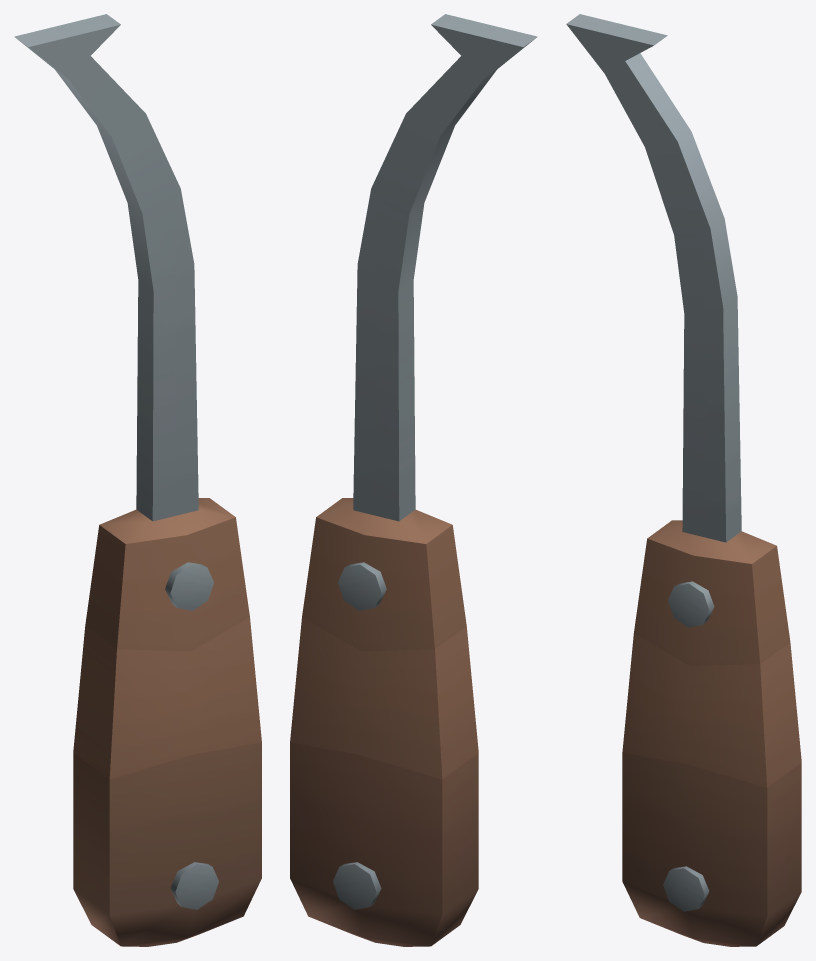
The model's file is lockpick_c.glb.
3 renders of one model, left to right at view 1: azimuth 30°, elevation 25°; view 2: azimuth 150°, elevation 25°; view 3: azimuth 330°, elevation 25°, orthographic. The views are drawn at different scales.
Parts seen in each view (by area): view 1: lockpick_C; view 2: lockpick_C; view 3: lockpick_C.
Boxes of the visible parts, left/top/right/bottom form: lockpick_C: left=14, top=14, right=261, bottom=946; lockpick_C: left=290, top=14, right=537, bottom=946; lockpick_C: left=566, top=14, right=801, bottom=946.
Size of the model in its own units: 0.221 by 0.8853 by 0.1093.
Materials: 1 (1 with a texture image).
